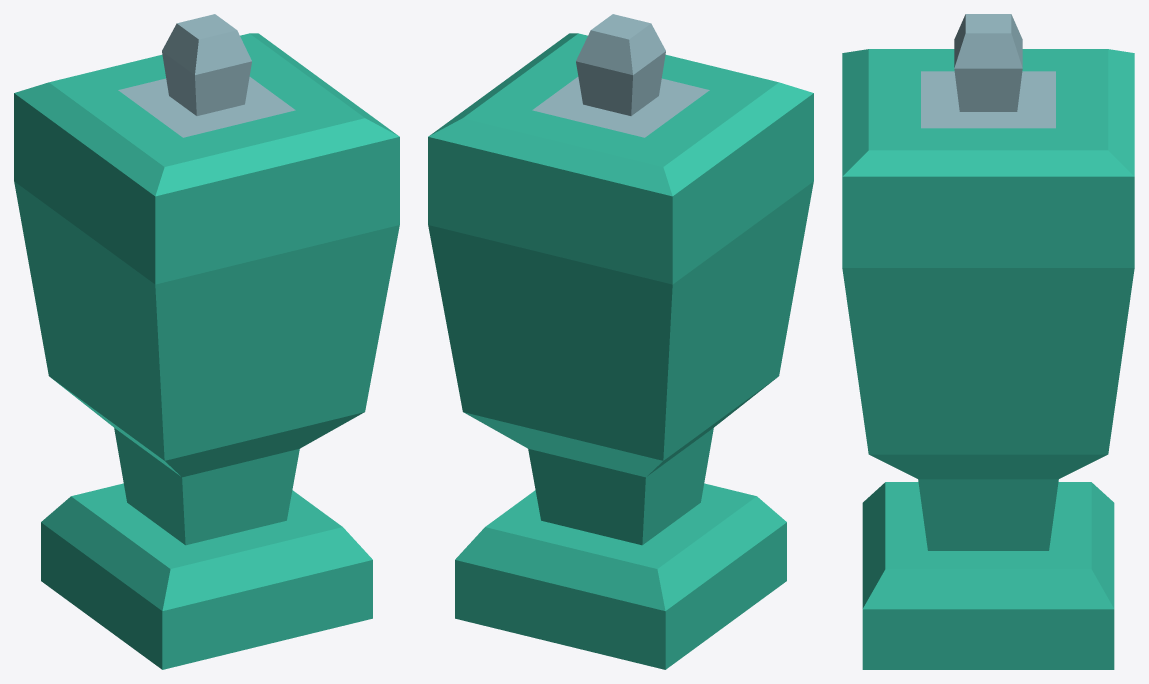
Rendered from urn.obj.
The picture shows the model from 3 angles, left to right: view 1: azimuth 30°, elevation 25°; view 2: azimuth 150°, elevation 25°; view 3: azimuth 270°, elevation 25°; orthographic projection. The views are drawn at different scales.
Parts seen in each view (by area): view 1: urn, lid; view 2: urn, lid; view 3: urn, lid.
Part boxes in pixels (bbox=[...]): urn: bbox=[14, 122, 399, 669]; lid: bbox=[14, 14, 399, 225]; urn: bbox=[428, 122, 813, 669]; lid: bbox=[428, 14, 813, 225]; urn: bbox=[842, 207, 1134, 669]; lid: bbox=[842, 14, 1134, 206].
Size of the model in its own units: 0.1742 by 0.39 by 0.1742.
